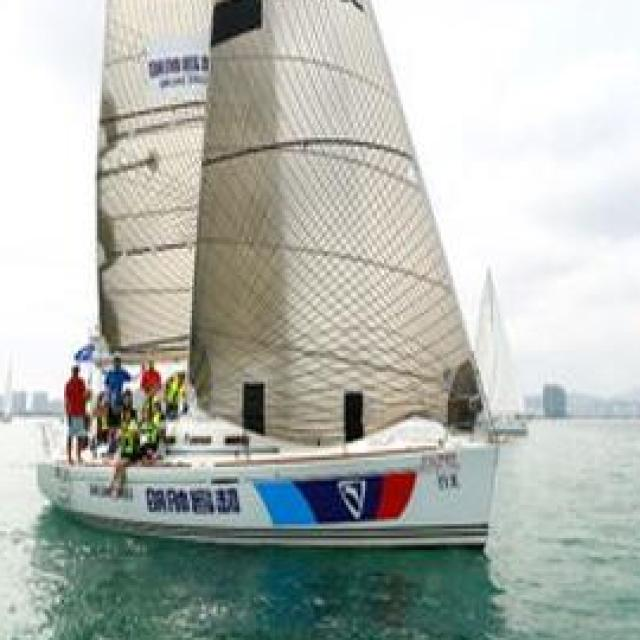sailboat: (22, 0, 514, 543)
